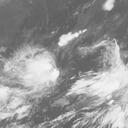cyclone: (10, 46, 59, 87)
